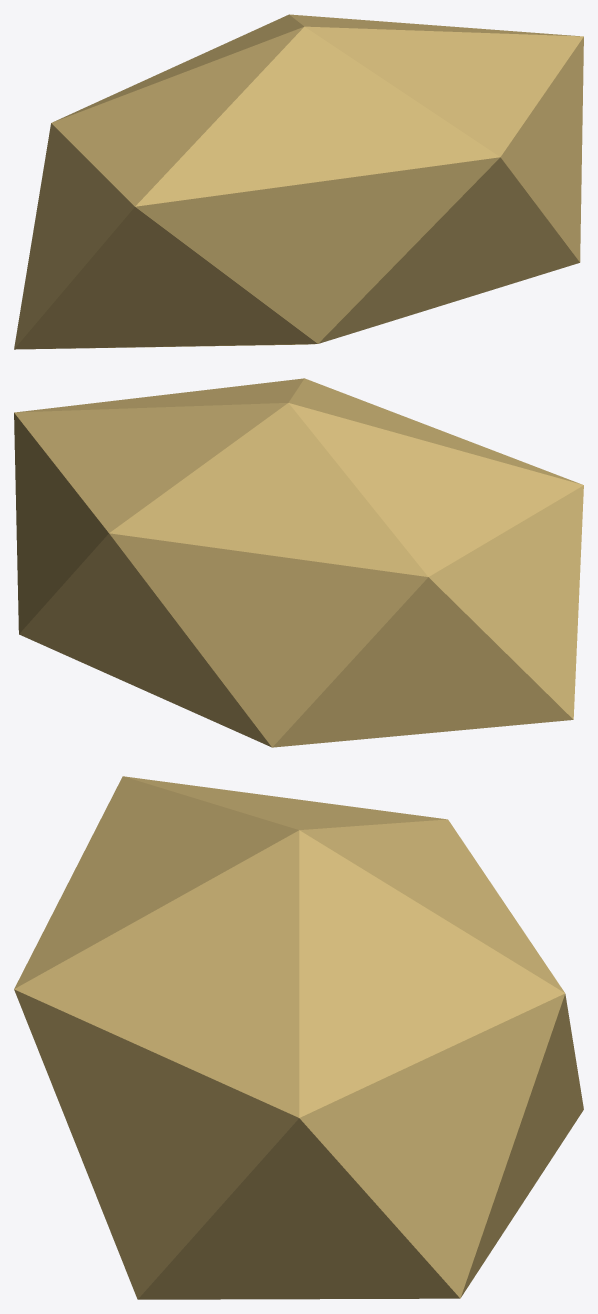
The model's file is item_087_bronze_dagger_s.glb.
The picture shows the model from 3 angles, top to bottom: view 1: azimuth 30°, elevation 25°; view 2: azimuth 150°, elevation 25°; view 3: azimuth 270°, elevation 25°; orthographic projection. The views are drawn at different scales.
Parts seen in each view (by area): view 1: item_087_bronze_dagger_s; view 2: item_087_bronze_dagger_s; view 3: item_087_bronze_dagger_s.
Part boxes in pixels (x1,y1,x2,y2): item_087_bronze_dagger_s: (14,14,583,349); item_087_bronze_dagger_s: (14,378,583,747); item_087_bronze_dagger_s: (14,776,583,1299).
Bounding box in the file's own units: 0.347 × 0.185 × 0.2238.
